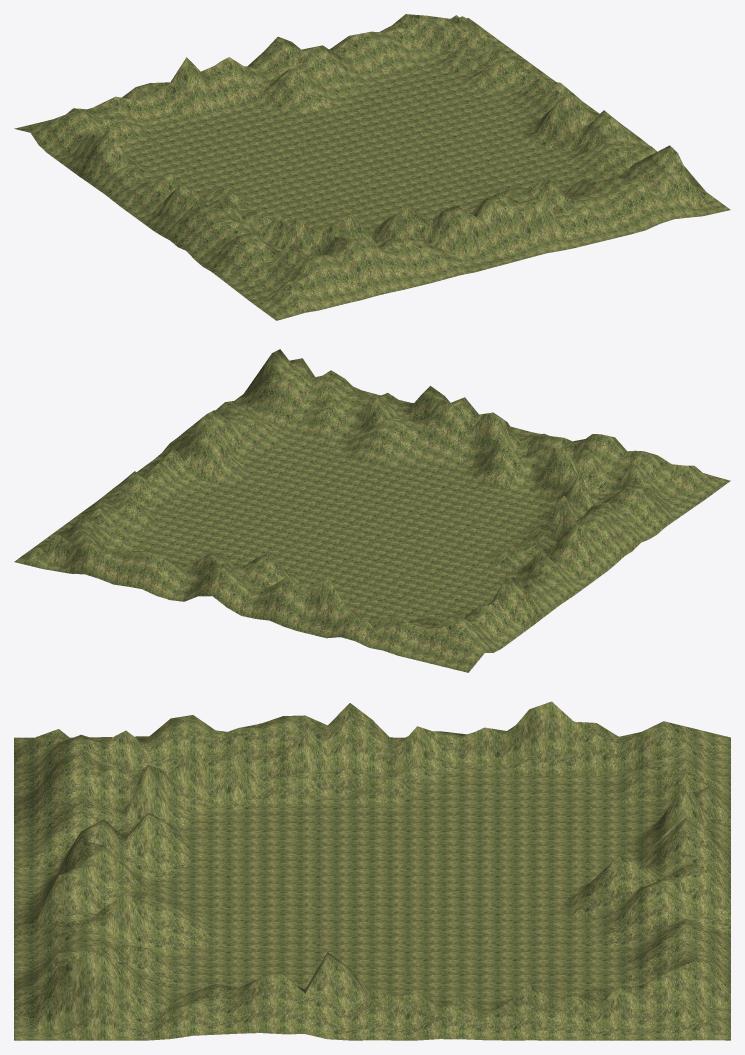
3 renders of one model, top to bottom at view 1: azimuth 30°, elevation 25°; view 2: azimuth 150°, elevation 25°; view 3: azimuth 270°, elevation 25°, orthographic. The views are drawn at different scales.
Visible parts, largest first — view 1: Mesh; view 2: Mesh; view 3: Mesh.
Boxes of the visible parts, <box> form: Mesh: <box>14,14,730,320</box>; Mesh: <box>14,349,730,672</box>; Mesh: <box>14,701,730,1040</box>.
Size of the model in its own units: 700 by 70.24 by 700.
Materials: 1 (1 with a texture image).
